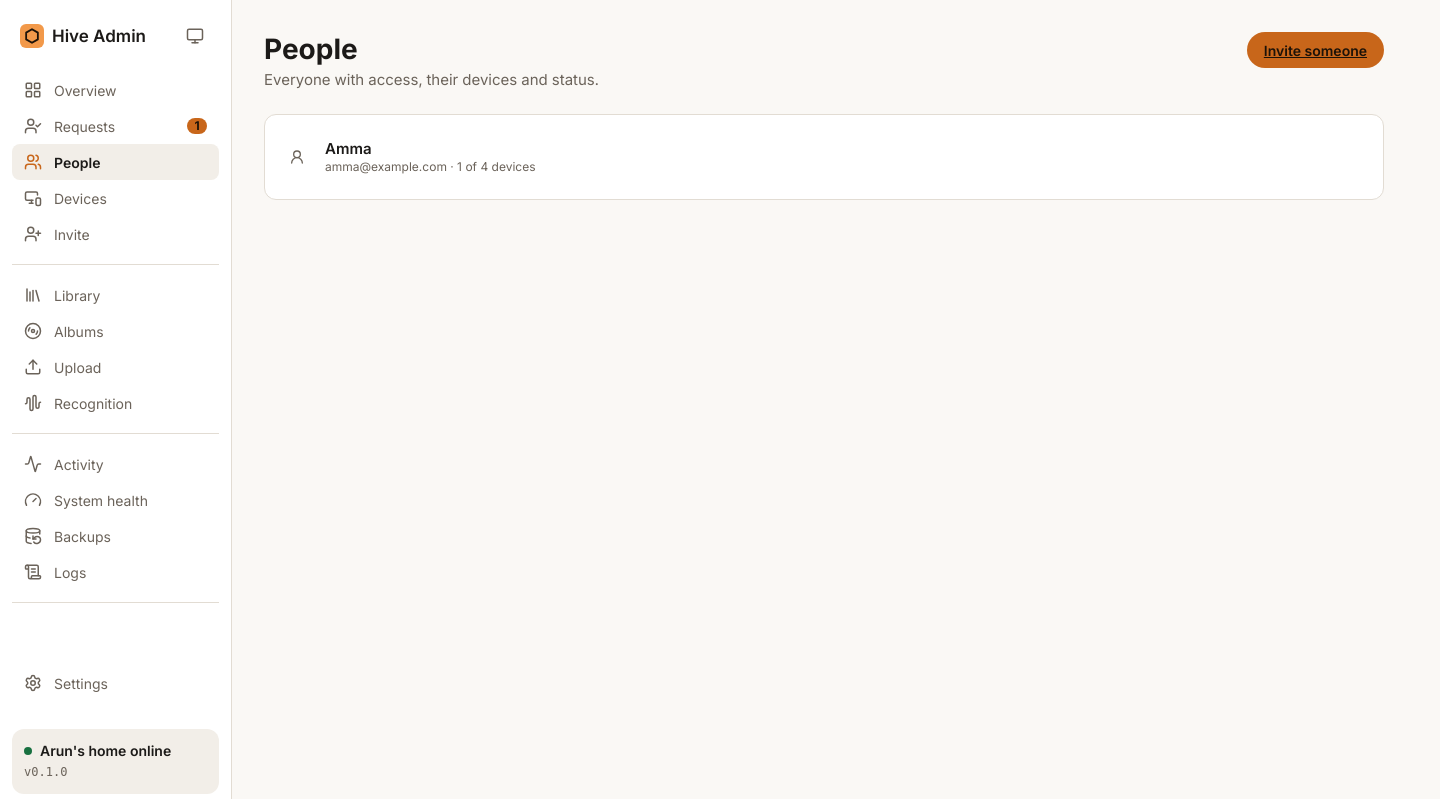
Test case: People › opens a person and suspends them
The image size is (1440, 799).
Step 1. Click the text "Amma" → (348,148), box left=325, top=139, right=372, bottom=158
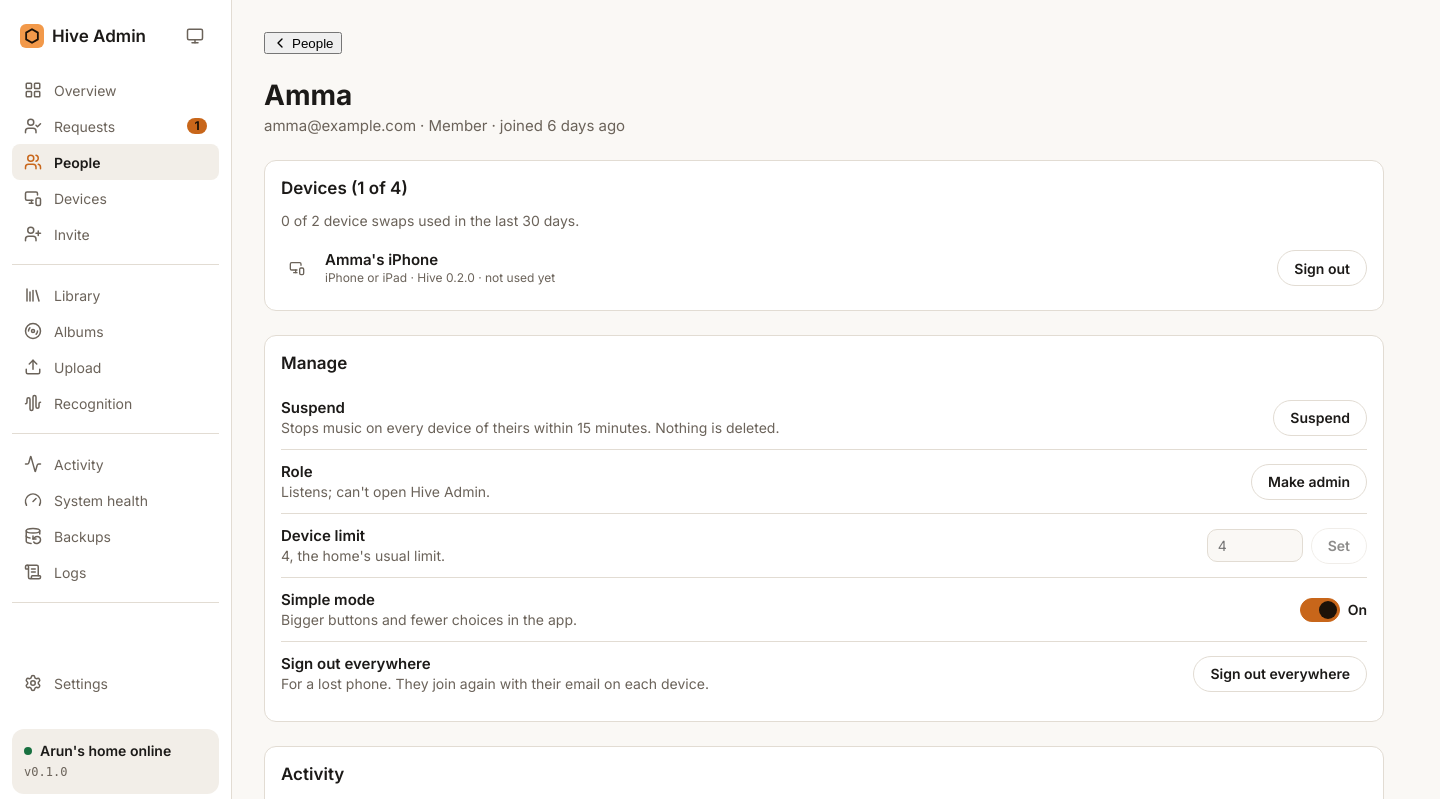
Now the text "Amma's iPhone" is shown, box left=325, top=250, right=438, bottom=269
Now the text "iPhone or iPad · Hive 0.2.0 · not used yet" is shown, box left=325, top=270, right=555, bottom=285
Step 2. Click the button "Suspend" → (1320,418), box left=1273, top=400, right=1367, bottom=436
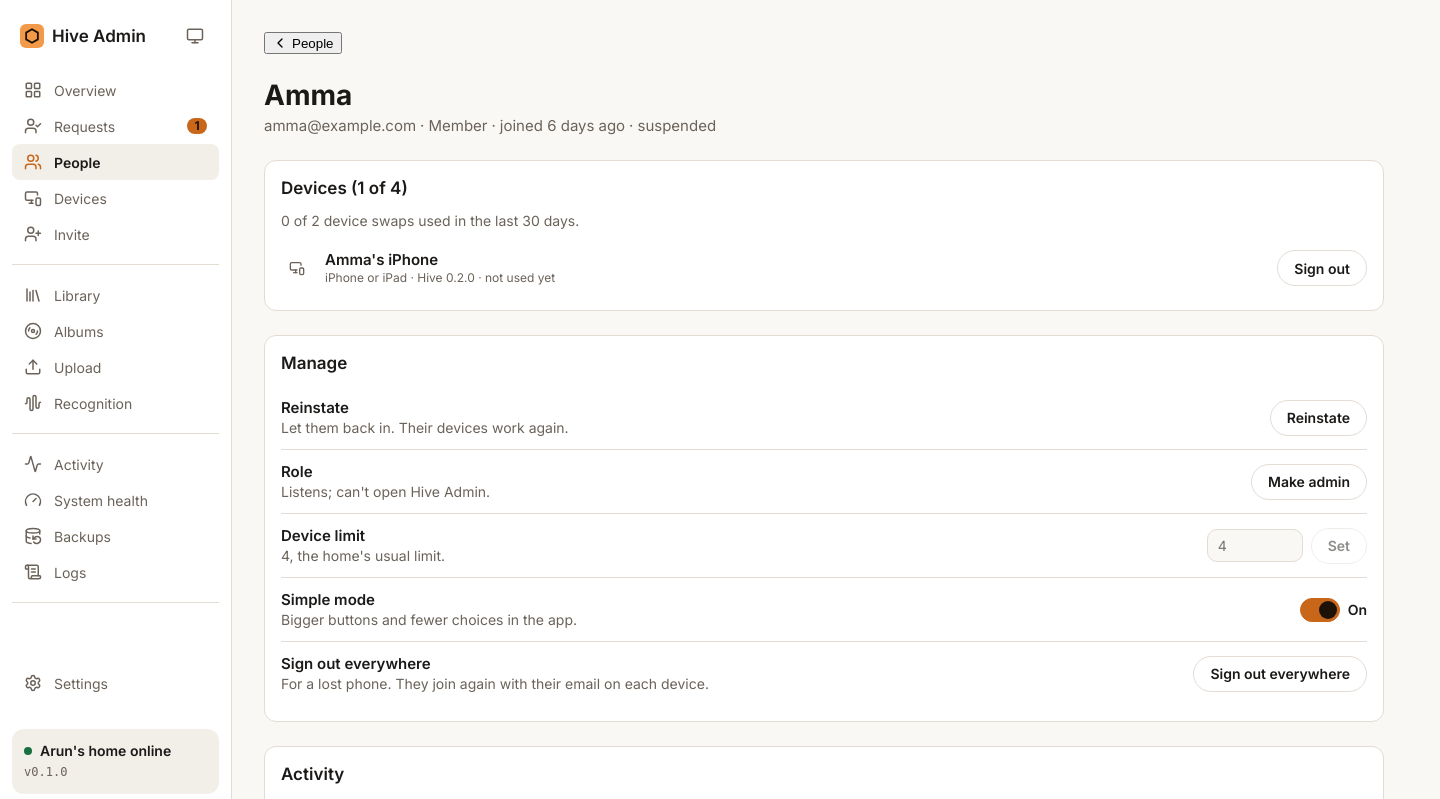
Now the button "Reinstate" is shown, box left=1270, top=400, right=1367, bottom=436
